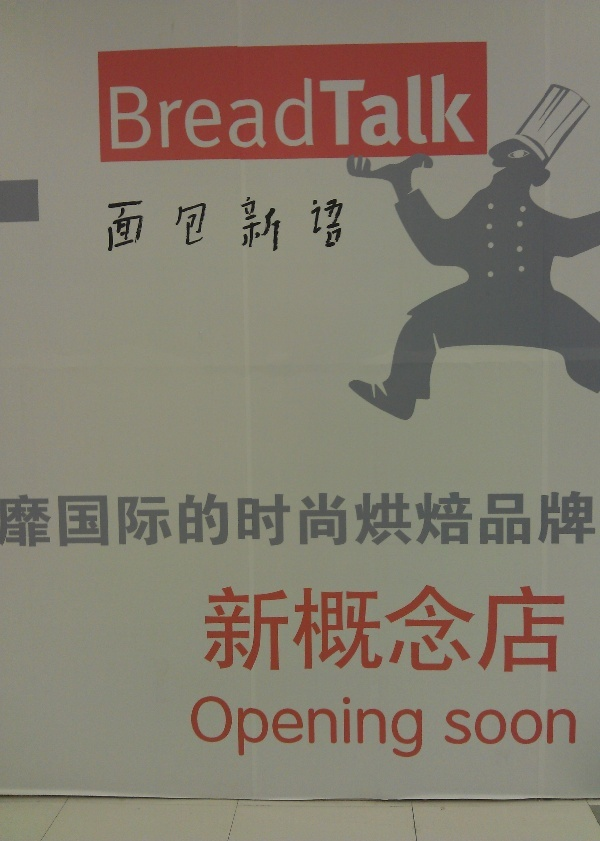text: (209, 586, 224, 674), (225, 586, 240, 674), (241, 586, 256, 674), (257, 586, 272, 674), (273, 586, 288, 674), (289, 586, 304, 674), (305, 586, 320, 674), (321, 586, 336, 674), (337, 586, 352, 674), (353, 586, 368, 674), (369, 586, 384, 674), (385, 586, 400, 674), (401, 586, 416, 674), (417, 586, 432, 674), (433, 586, 448, 674), (449, 586, 464, 674), (465, 586, 480, 674), (481, 586, 496, 674), (497, 586, 512, 674), (513, 586, 528, 674), (529, 586, 544, 674), (545, 586, 560, 674), (113, 73, 128, 151), (129, 73, 144, 151), (145, 73, 160, 151), (161, 73, 176, 151), (177, 73, 192, 151), (193, 73, 208, 151), (209, 73, 224, 151), (225, 73, 240, 151), (241, 73, 256, 151), (257, 73, 272, 151), (273, 73, 288, 151), (289, 73, 304, 151), (305, 73, 320, 151), (321, 73, 336, 151), (337, 73, 352, 151), (353, 73, 368, 151), (369, 73, 384, 151), (385, 73, 400, 151), (401, 73, 416, 151), (417, 73, 432, 151), (433, 73, 448, 151), (449, 73, 464, 151), (193, 696, 208, 757), (209, 696, 224, 757), (225, 696, 240, 757), (241, 696, 256, 757), (257, 696, 272, 757), (273, 696, 288, 757), (289, 696, 304, 757), (305, 696, 320, 757), (321, 696, 336, 757), (337, 696, 352, 757), (353, 696, 368, 757), (369, 696, 384, 757), (385, 696, 400, 757), (401, 696, 416, 757), (17, 491, 32, 550), (33, 491, 48, 550), (49, 491, 64, 550), (65, 491, 80, 550), (81, 491, 96, 550), (97, 491, 112, 550), (113, 491, 128, 550), (129, 491, 144, 550), (145, 491, 160, 550), (161, 491, 176, 550), (177, 491, 192, 550), (193, 491, 208, 550), (209, 491, 224, 550), (225, 491, 240, 550), (241, 491, 256, 550), (257, 491, 272, 550), (273, 491, 288, 550), (289, 491, 304, 550), (305, 491, 320, 550), (321, 491, 336, 550), (337, 491, 352, 550), (353, 491, 368, 550), (369, 491, 384, 550), (385, 491, 400, 550), (401, 491, 416, 550), (417, 491, 432, 550), (433, 491, 448, 550), (449, 491, 464, 550), (465, 491, 480, 550), (481, 491, 496, 550), (497, 491, 512, 550), (513, 491, 528, 550), (529, 491, 544, 550), (545, 491, 560, 550), (561, 491, 576, 550), (577, 491, 592, 550), (2, 491, 16, 550), (113, 198, 128, 252), (129, 198, 144, 252), (145, 198, 160, 252), (161, 198, 176, 252), (177, 198, 192, 252), (193, 198, 208, 252), (209, 198, 224, 252), (225, 198, 240, 252), (241, 198, 256, 252), (257, 198, 272, 252), (273, 198, 288, 252), (289, 198, 304, 252), (305, 198, 320, 252), (321, 198, 336, 252), (449, 705, 464, 748), (465, 705, 480, 748), (481, 705, 496, 748), (497, 705, 512, 748), (513, 705, 528, 748), (529, 705, 544, 748), (545, 705, 560, 748), (561, 705, 576, 748), (465, 73, 473, 151), (561, 586, 567, 674), (337, 198, 346, 252), (417, 696, 423, 757), (204, 586, 208, 674), (107, 198, 112, 252), (109, 73, 112, 151), (443, 705, 448, 748), (593, 491, 596, 550), (191, 696, 192, 757), (577, 705, 578, 748)
